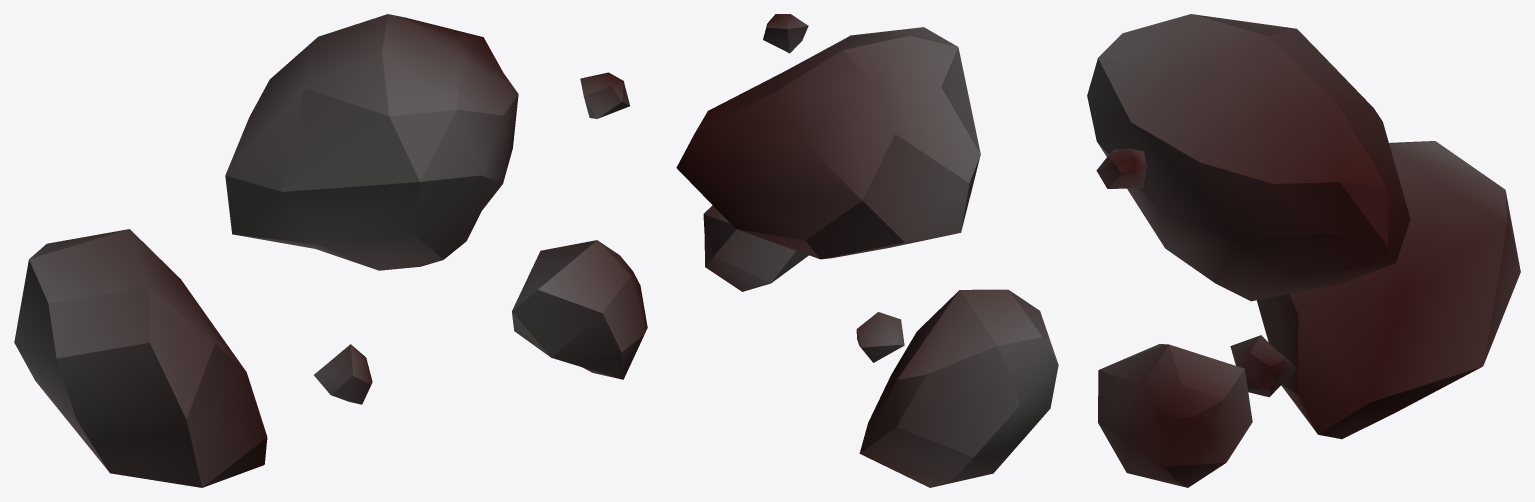
File: AsteridsSibJam.fbx
3 renders of one model, left to right at view 1: azimuth 30°, elevation 25°; view 2: azimuth 150°, elevation 25°; view 3: azimuth 270°, elevation 25°, orthographic. The views are drawn at different scales.
Visible parts, largest first — view 1: Icosphere.005; view 2: Icosphere.005; view 3: Icosphere.005.
Boxes of the visible parts, x1,y1,x2,y2 form: Icosphere.005: (14,14,647,487); Icosphere.005: (676,14,1058,487); Icosphere.005: (1087,14,1520,487).
Bounding box in the file's own units: 356 × 310 × 262.
